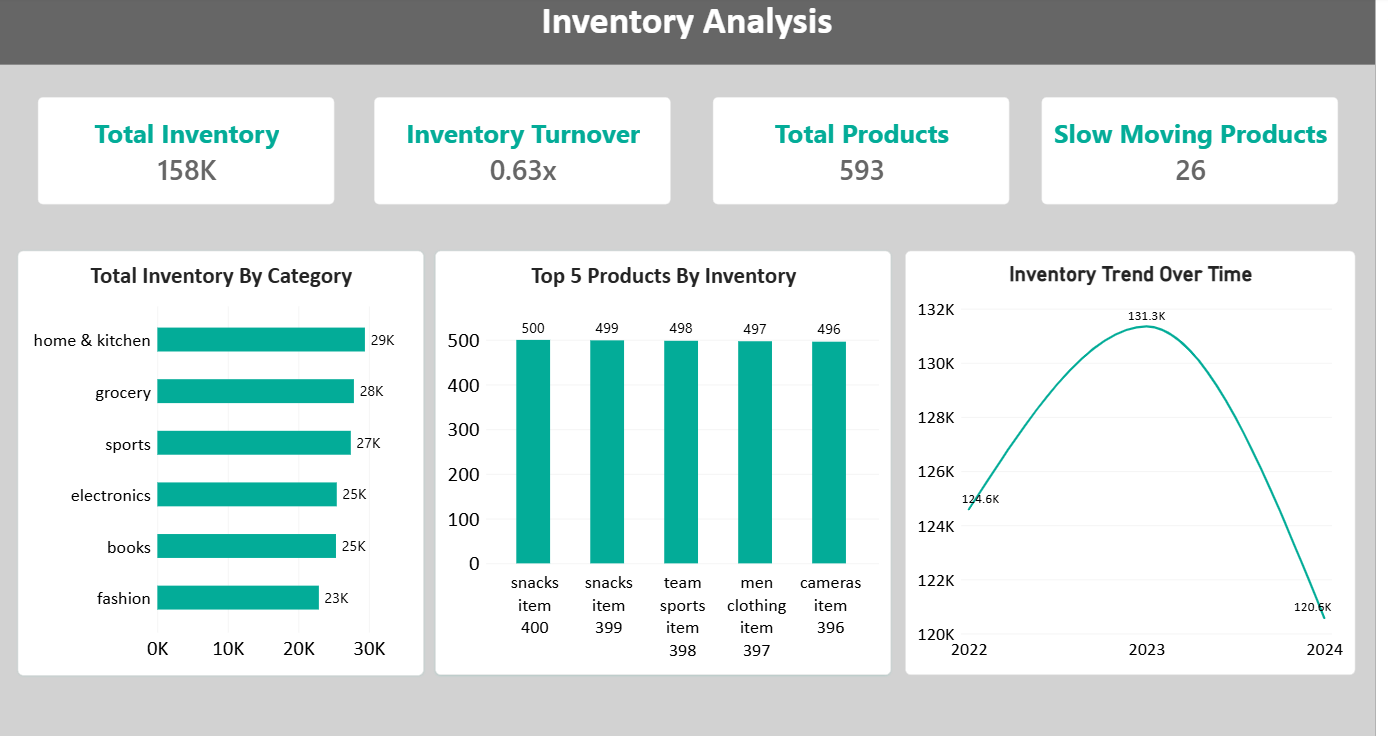

This screenshot's page, from the dashboard's own definition file:
{"tool":"powerbi","page":{"name":"Inventory Analysis","canvas":[1920,1080],"ordinal":1},"visuals":[{"type":"textbox","box":[0,0,1920.1,94.1],"z":0},{"type":"cardVisual","fields":{"Data":["dim_products.Total Inventory"]},"box":[54.3,139.3,414.4,150.2],"z":1000},{"type":"cardVisual","fields":{"Data":["dim_products.Inventory Turnover Display"]},"box":[523,139.3,414.4,150.2],"z":2000},{"type":"cardVisual","fields":{"Data":["dim_products.Total Products"]},"box":[995.3,139.3,414.4,150.2],"z":3000},{"type":"cardVisual","fields":{"Data":["dim_products.Slow Moving Products"]},"box":[1455,139.3,414.4,150.2],"z":4000},{"type":"barChart","title":"Total Inventory By Category","fields":{"Category":["dim_products.category"],"Y":["dim_products.Total Inventory"]},"box":[26,354,566.6,592.9],"z":5000},{"type":"columnChart","title":"Top 5 Products By Inventory","fields":{"Category":["dim_products.product_name"],"Y":["dim_products.Total Inventory"]},"box":[608,354,636,592],"z":6000},{"type":"lineChart","title":"Inventory Trend Over Time","fields":{"Y":["dim_products.Inventory Remaining"],"Category":["fact_orders.order_date.Variation.Date Hierarchy.Year","fact_orders.order_date.Variation.Date Hierarchy.Quarter","fact_orders.order_date.Variation.Date Hierarchy.Month","fact_orders.order_date.Variation.Date Hierarchy.Day"]},"box":[1264,354,628,592],"z":7000}]}

Visuals, with their boxes on the page's 1920x1080 design canvas (x1, y1, x2, y2). These are canvas units, not pixel positions in the 1388x736 screenshot, which may show the page scaled, cropped or inside an application window:
textbox: bbox=[0, 0, 1920, 94]
cardVisual - dim_products.Total Inventory: bbox=[54, 139, 469, 290]
cardVisual - dim_products.Inventory Turnover Display: bbox=[523, 139, 937, 290]
cardVisual - dim_products.Total Products: bbox=[995, 139, 1410, 290]
cardVisual - dim_products.Slow Moving Products: bbox=[1455, 139, 1869, 290]
"Total Inventory By Category" barChart: bbox=[26, 354, 593, 947]
"Top 5 Products By Inventory" columnChart: bbox=[608, 354, 1244, 946]
"Inventory Trend Over Time" lineChart: bbox=[1264, 354, 1892, 946]
